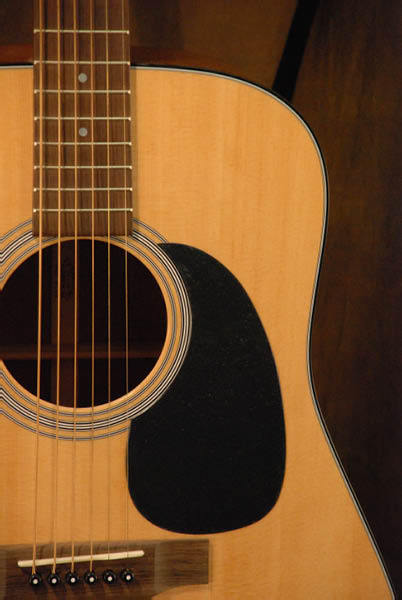guitar: (1, 1, 393, 600)
